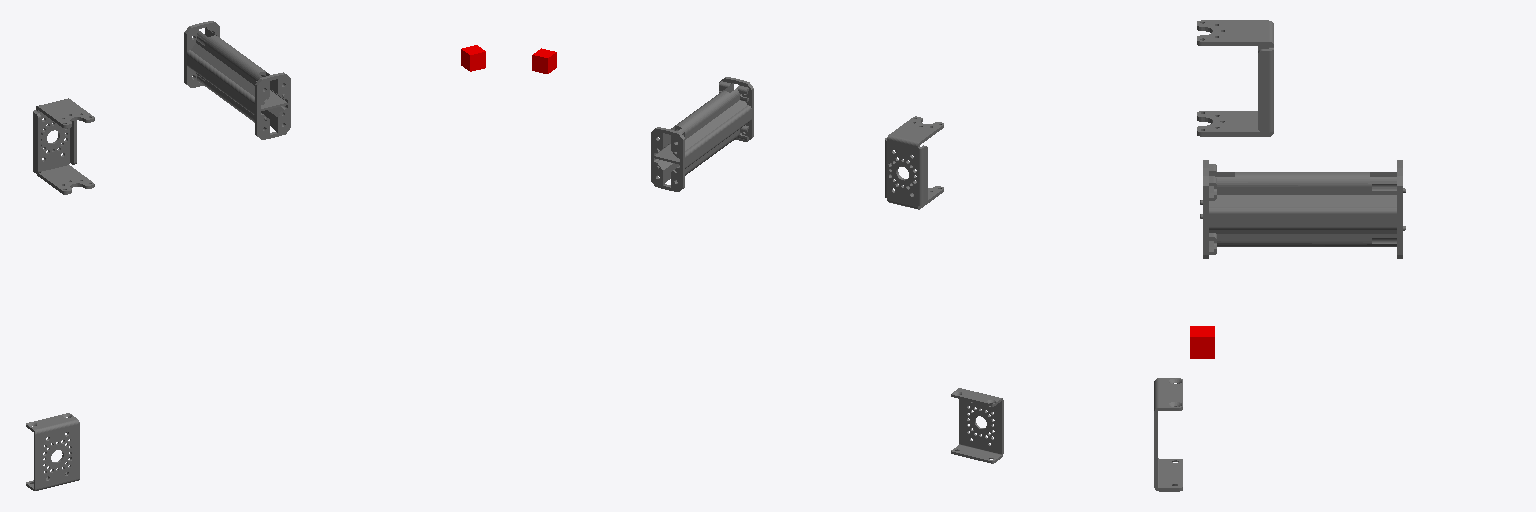
robot.urdf — turtlebot3_manipulation:
<?xml version="1.0"?>
<robot name="turtlebot3_manipulation">



  <!-- 색깔  -->
  
  <material name="red">
    <color rgba="1.0 0.0 0.0 1.0"/>
  </material>

  <material name="light_black">
    <color rgba="0.1 0.1 0.1 1.0"/>
  </material>

  <material name="dark">
    <color rgba="0.2 0.2 0.2 1.0"/>
  </material>

  <material name="grey">
    <color rgba="0.5 0.5 0.5 1.0"/>
  </material>


  <!-- Manipulator -->
  <link name="link1">
    <visual>
      <origin xyz="0 0 0" rpy="0 0 0"/>
      <geometry>
        <mesh filename="package://turtlebot3/meshes/link1.stl" scale="0.001 0.001 0.001"/>
      </geometry>
      <material name="grey"/>
    </visual>

    <collision>
      <origin xyz="0 0 0" rpy="0 0 0"/>
      <geometry>
        <box size="0.05 0.05 0.05"/>
      </geometry>
    </collision>

    <inertial>
      <origin xyz="3.0876154e-04 0.0000000 -1.2176461e-04" />
      <mass value="7.9119962e-02" />
      <inertia ixx="1.2505234e-05" ixy="0.0" ixz="-1.7855208e-07"
                iyy="2.1898364e-05" iyz="0.0"
                izz="1.9267361e-05" />
    </inertial>
  </link>


  <joint name="joint1" type="revolute">
    <parent link="link1"/>
    <child link="link2"/>
    <origin xyz="0.012 0.0 0.017" rpy="0 0 0"/>
    <axis xyz="0 0 1"/>
    <limit velocity="4.8" effort="1" lower="-2.8274" upper="2.8274" />
    <dynamics damping="0.1"/>
  </joint>

  <link name="link2">
    <visual>
      <origin xyz="0 0 0.019" rpy="0 0 0"/>
      <geometry>
        <mesh filename="package://turtlebot3/meshes/link2.stl" scale="0.001 0.001 0.001"/>
      </geometry>
      <material name="grey"/>
    </visual>

    <collision>
      <origin xyz="0 0 0.019" rpy="0 0 0"/>
      <geometry>
        <mesh filename="package://turtlebot3/meshes/link2.stl" scale="0.001 0.001 0.001"/>
      </geometry>
    </collision>

    <inertial>
      <origin xyz="-3.0184870e-04 5.4043684e-04 0.04743" />
      <mass value="9.8406837e-02" />
      <inertia ixx="3.4543422e-05" ixy="-1.6031095e-08" ixz="-3.8375155e-07"
                iyy="3.2689329e-05" iyz="2.8511935e-08"
                izz="1.8850320e-05" />
    </inertial>
  </link>






  <joint name="joint2" type="revolute">
    <parent link="link2"/>
    <child link="link3"/>
    <origin xyz="0.0 0.0 0.0595" rpy="0 0 0"/>
    <axis xyz="0 1 0"/>
    <limit velocity="4.8" effort="1" lower="-1.7907" upper="1.7907" />
    <dynamics damping="0.1"/>
  </joint>

  <link name="link3">
    <visual>
      <origin xyz="0 0 0" rpy="0 0 0"/>
      <geometry>
        <mesh filename="package://turtlebot3/meshes/link3.stl" scale="0.001 0.001 0.001"/>
      </geometry>
      <material name="grey"/>
    </visual>
      
    <collision>
      <origin xyz="0 0 0" rpy="0 0 0"/>
      <geometry>
        <mesh filename="package://turtlebot3/meshes/link3.stl" scale="0.001 0.001 0.001"/>
      </geometry>
    </collision>

    <inertial>
      <origin xyz="1.0308393e-02 3.7743363e-04 1.0170197e-01" />
      <mass value="1.3850917e-01" />
      <inertia ixx="3.3055381e-04" ixy="-9.7940978e-08" ixz="-3.8505711e-05"
                iyy="3.4290447e-04" iyz="-1.5717516e-06"
                izz="6.0346498e-05" />
    </inertial>
  </link>

  <joint name="joint3" type="revolute">
    <parent link="link3"/>
    <child link="link4"/>
    <origin xyz="0.024 0 0.128" rpy="0 0 0"/>
    <axis xyz="0 1 0"/>
    <limit velocity="4.8" effort="1" lower="-0.9424" upper="0.9424" />
    <dynamics damping="0.1"/>
  </joint>

  <link name="link4">
    <visual>
      <origin xyz="0 0 0" rpy="0 0 0"/>
      <geometry>
        <mesh filename="package://turtlebot3/meshes/link4.stl" scale="0.001 0.001 0.001"/>
      </geometry>
      <material name="grey"/>
    </visual>

    <collision>
      <origin xyz="0 0 0" rpy="0 0 0"/>
      <geometry>
        <mesh filename="package://turtlebot3/meshes/link4.stl" scale="0.001 0.001 0.001"/>
      </geometry>
    </collision>

    <inertial>
      <origin xyz="9.0909590e-02 3.8929816e-04 2.2413279e-04" />
      <mass value="1.3274562e-01" />
      <inertia ixx="3.0654178e-05" ixy="-1.2764155e-06" ixz="-2.6874417e-07"
                iyy="2.4230292e-04" iyz="1.1559550e-08"
                izz="2.5155057e-04" />
    </inertial>
  </link>


  <joint name="joint4" type="revolute">
    <parent link="link4"/>
    <child link="link5"/>
    <origin xyz="0.124 0.0 0.0" rpy="0 0 0"/>
    <axis xyz="0 1 0"/>
    <limit velocity="4.8" effort="1" lower="-1.7907" upper="1.7907" />
    <dynamics damping="0.1"/>
  </joint>

  <link name="link5">
    <visual>
      <origin xyz="0 0 0" rpy="0 0 0"/>
      <geometry>
        <mesh filename="package://turtlebot3/meshes/link5.stl" scale="0.001 0.001 0.001"/>
      </geometry>
      <material name="grey"/>
    </visual>

    <collision>
      <origin xyz="0 0 0" rpy="0 0 0"/>
      <geometry>
        <mesh filename="package://turtlebot3/meshes/link5.stl" scale="0.001 0.001 0.001"/>
      </geometry>
    </collision>

    <inertial>
      <origin xyz="4.4206755e-02 3.6839985e-07 8.9142216e-03" />
      <mass value="1.4327573e-01" />
      <inertia ixx="8.0870749e-05" ixy="0.0" ixz="-1.0157896e-06"
                iyy="7.5980465e-05" iyz="0.0"
                izz="9.3127351e-05" />
    </inertial>
  </link>





  <!-- Grippers -->
  <joint name="gripper_left_joint" type="prismatic">
    <parent link="link5"/>
    <child link="gripper_left_link"/>
    <origin xyz="0.0817 0.021 0.0" rpy="0 0 0"/>
    <axis xyz="0 1 0"/>
    <limit velocity="4.8" effort="1" lower="-0.010" upper="0.019" />
    <dynamics damping="0.1"/>
  </joint>

  <link name="gripper_left_link">
    <visual>
      <origin xyz="0 0 0" rpy="0 0 0"/>
      <geometry>
        <mesh filename="package://turtlebot3/meshes/gripper_left_palm.stl" scale="0.001 0.001 0.001"/>
      </geometry>
      <material name="grey"/>
    </visual>

    <collision>
      <origin xyz="0 0 0" rpy="0 0 0"/>
      <geometry>
        <mesh filename="package://turtlebot3/meshes/gripper_left_palm.stl" scale="0.001 0.001 0.001"/>
      </geometry>
    </collision>

    <inertial>
      <origin xyz="0 0 0" />
      <mass value="1.0e-03" />
      <inertia ixx="1.0e-06" ixy="0.0" ixz="0.0"
                iyy="1.0e-06" iyz="0.0"
                izz="1.0e-06" />
    </inertial>
  </link>

  <joint name="gripper_right_joint_mimic" type="fixed">
    <parent link="link5" />
    <child link="dummy_mimic_fix" />
  </joint>
  <link name="dummy_mimic_fix"/>

  <joint name="gripper_right_joint" type="prismatic">
    <parent link="link5"/>
    <child link="gripper_right_link"/>
    <origin xyz="0.0817 -0.021 0" rpy="0 0 0"/>
    <axis xyz="0 -1 0"/>
    <limit velocity="4.8" effort="1" lower="-0.010" upper="0.019" />
    <mimic joint="gripper_left_joint" multiplier="1"/>
    <dynamics damping="0.1"/>
  </joint>

  <link name="gripper_right_link">
    <visual>
      <origin xyz="0 0 0" rpy="0 0 0"/>
      <geometry>
        <mesh filename="package://turtlebot3/meshes/gripper_right_palm.stl" scale="0.001 0.001 0.001"/>
      </geometry>
      <material name="grey"/>
    </visual>

    <collision>
      <origin xyz="0 0 0" rpy="0 0 0"/>
      <geometry>
        <mesh filename="package://turtlebot3/meshes/gripper_right_palm.stl" scale="0.001 0.001 0.001"/>
      </geometry>
    </collision>

    <inertial>
      <origin xyz="0 0 0" />
      <mass value="1.0e-03" />
      <inertia ixx="1.0e-06" ixy="0.0" ixz="0.0"
                iyy="1.0e-06" iyz="0.0"
                izz="1.0e-06" />
    </inertial>
  </link>

  <joint name="end_effector_joint" type="fixed">
    <parent link="link5"/>
    <child link="end_effector_link"/>
    <origin xyz="0.126 0.0 0.0" rpy="0 0 0"/>
  </joint>

  <link name="end_effector_link">
    <visual>
      <origin xyz="0 0 0" rpy="0 0 0"/>
      <geometry>
        <box size="0.01 0.01 0.01" />
      </geometry>
      <material name="red"/>
    </visual>
  </link>
  
 

</robot>

--- Render facts (derived) ---
Views: 3 orthographic renders of the robot side by side, from view 1: azimuth 30°, elevation 25°; view 2: azimuth 150°, elevation 25°; view 3: azimuth 270°, elevation 25°.
Model turtlebot3_manipulation with 9 links and 8 joints (4 revolute, 2 prismatic, 2 fixed), rooted at link1, posed all joints at 0.
Links seen in each view (by area): view 1: link5, link4, link2, end_effector_link; view 2: link5, link4, link2, end_effector_link; view 3: link5, link4, link2, end_effector_link.
Link boxes in pixels (<box>): link5: <box>184,21,290,139</box>; link4: <box>33,98,94,194</box>; link2: <box>26,413,79,490</box>; end_effector_link: <box>461,45,485,71</box>; link5: <box>651,77,753,191</box>; link4: <box>885,116,943,209</box>; link2: <box>951,388,1003,463</box>; end_effector_link: <box>532,48,556,73</box>; link5: <box>1200,160,1405,258</box>; link4: <box>1197,20,1273,136</box>; link2: <box>1154,378,1182,491</box>; end_effector_link: <box>1190,326,1214,358</box>.
Size in the robot's own frame: 0.293 by 0.1007 by 0.208 metres.
3 mesh visuals loaded from 7 distinct referenced files (3 binary STL); not drawn: 4 (reference not matched to a file when rendering).
